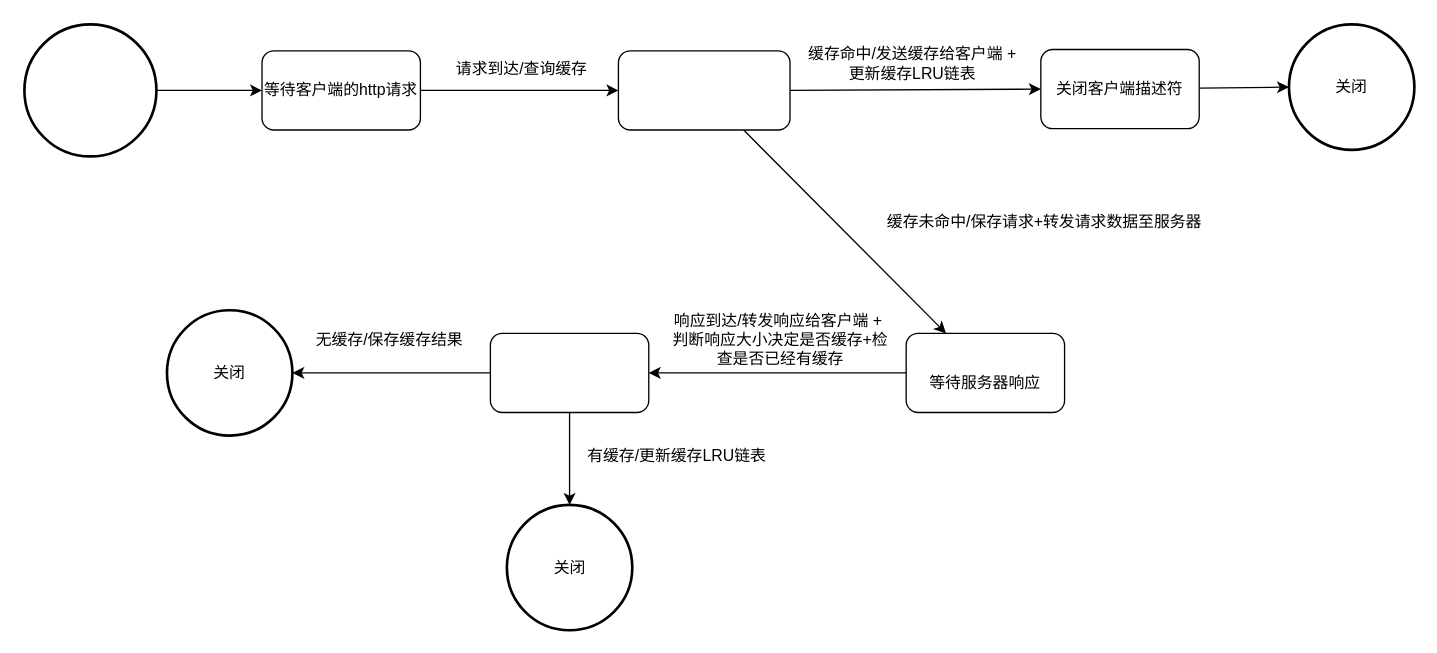
This 1437x653 diagram has some shape labels left out. Each missing label, with the centre of its shape:
开始: point (89, 89)
等待查询缓存命中结果: point (703, 90)
等待缓存检查结果: point (569, 372)
